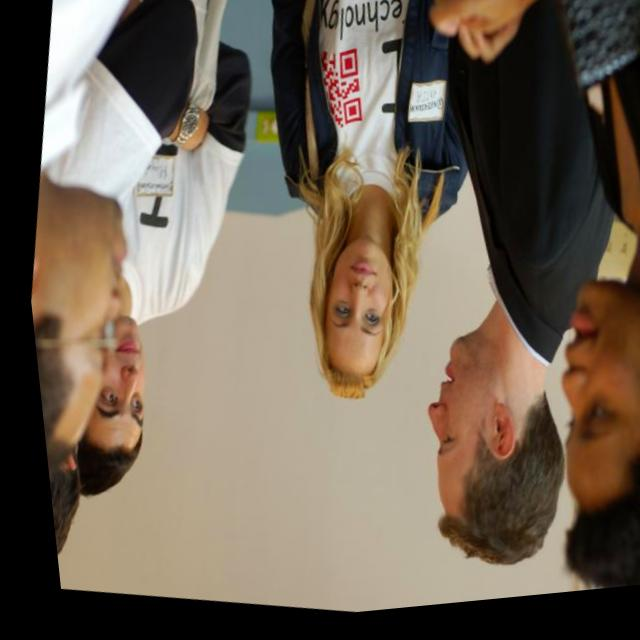qrcode: (304, 48, 371, 143)
